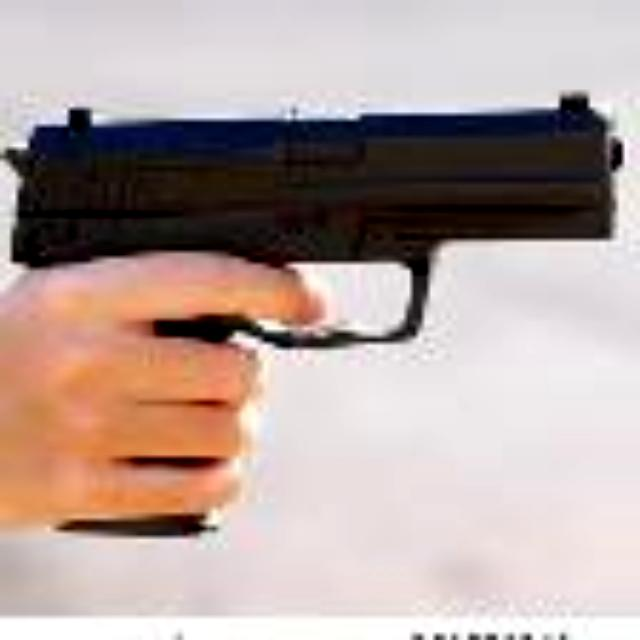pistol: (0, 86, 640, 540), (0, 91, 623, 531)
